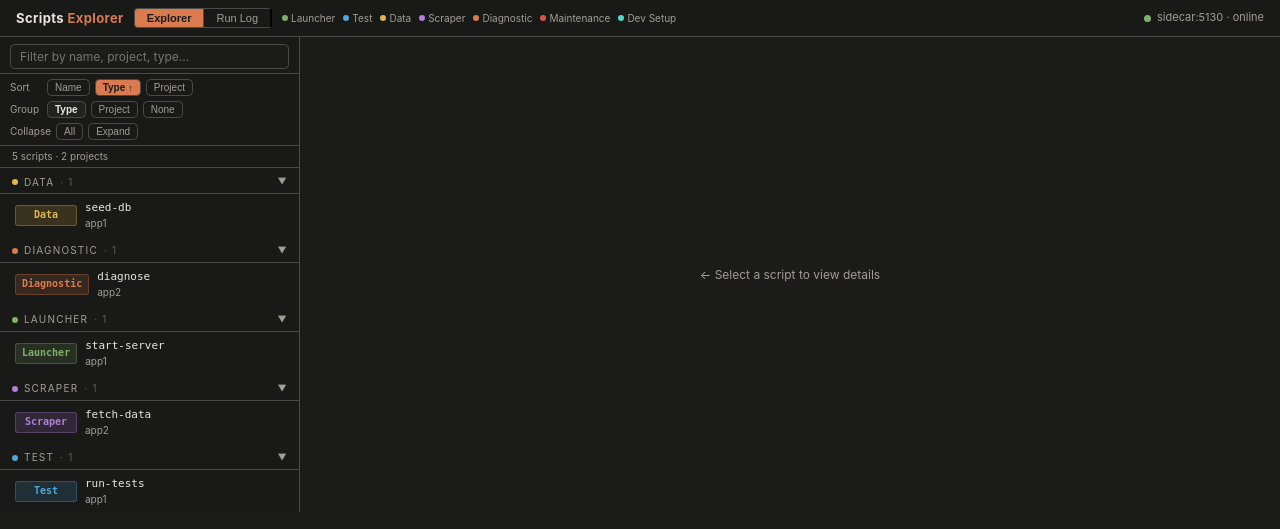
it: ScriptsExplorer Integration Tests › Script Search/Filter Workflow › should show no results when filter matches nothing
Type "NONEXISTENTSCRIPT12345" into the field with placeholder "Filter by name, project, type…" at (150, 56), box x1=10 y1=44 x2=289 y2=69
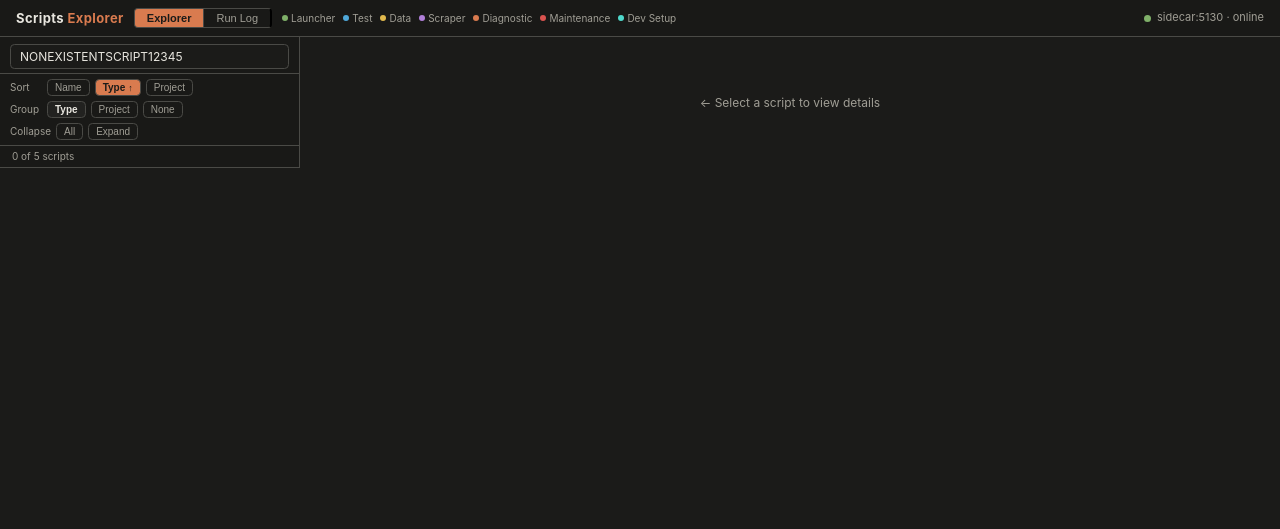
Expected: no buttons with test id "script-item" are shown
